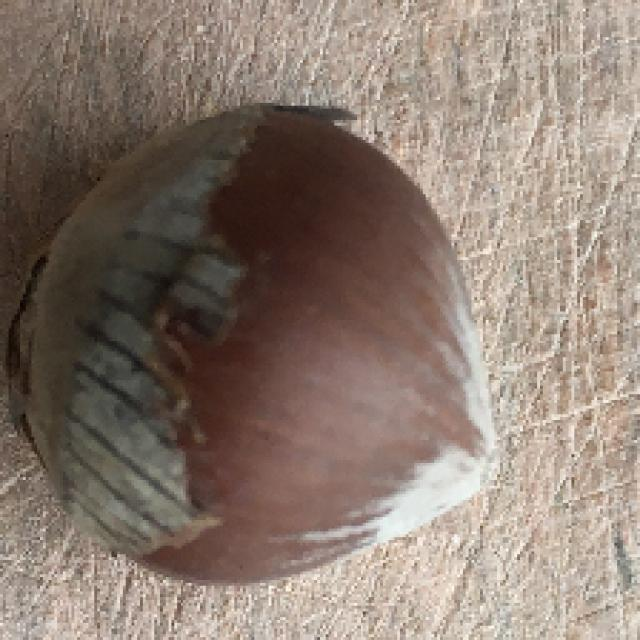DamagedHazelnut: (27, 111, 504, 582)
